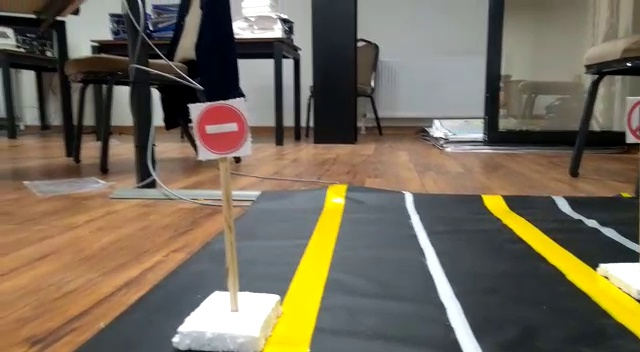girisi_olmayan_yol: (195, 103, 252, 156)
